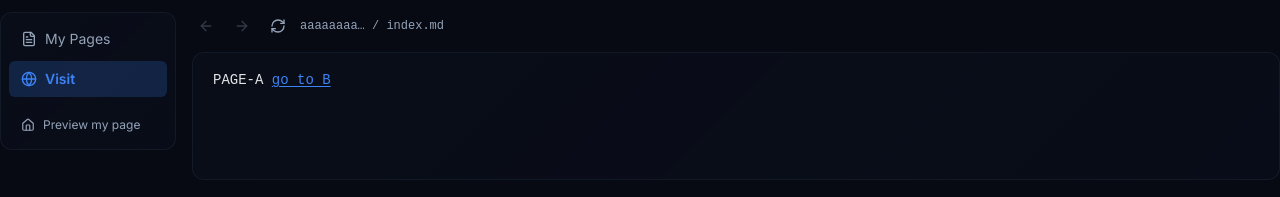
Test: drops a late reply for a page the user has left
expect the text "PAGE-A go to B" is shown: met, box [213,72,331,88]
Click the link "go to B" at (301, 80), box [272,72,331,88]
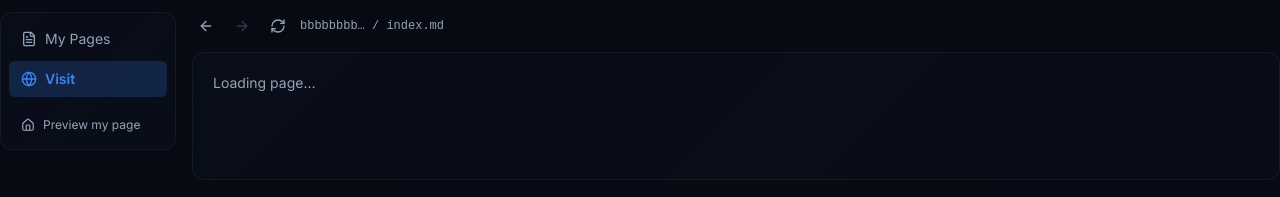
Click the button titled "Back" at (206, 26), box [192,12,220,40]
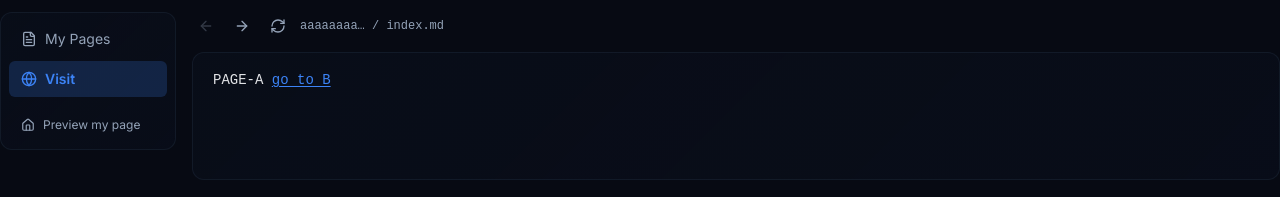
expect the text "PAGE-A go to B" is shown: met, box [213,72,331,88]
